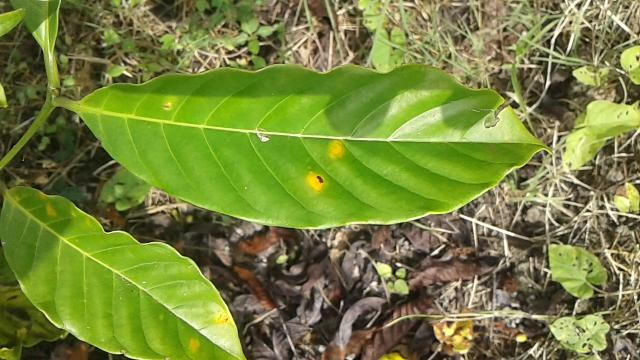rust_level_1: (73, 58, 559, 237)
